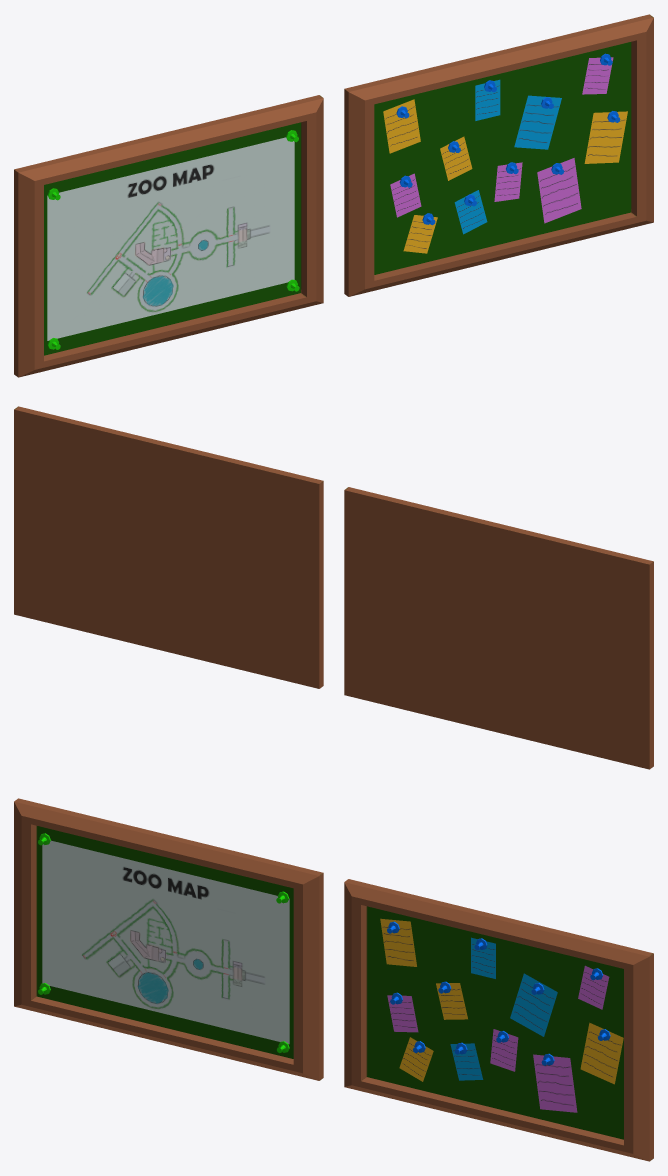
File: papan mading.fbx
The picture shows the model from 3 angles, top to bottom: view 1: azimuth 30°, elevation 25°; view 2: azimuth 150°, elevation 25°; view 3: azimuth 330°, elevation 25°; orthographic projection.
Visible parts, largest first — view 1: papan.001, Map2D, papan, Plane.010, Plane.007, Plane.009, Circle.005, Plane.004, Plane.008, Plane.006, Plane.014, Plane.011 (+3 smaller); view 2: papan, papan.001; view 3: papan.001, Map2D, papan, Plane.010, Plane.007, Plane.009, Circle.005, Plane.004, Plane.013, Plane.008, Plane.012, Plane.014 (+3 smaller).
Part boxes in pixels (bbox=[...]): papan.001: bbox=[344, 14, 653, 296]; Map2D: bbox=[47, 137, 294, 340]; papan: bbox=[14, 95, 323, 377]; Plane.010: bbox=[537, 158, 581, 223]; Plane.007: bbox=[514, 95, 561, 149]; Plane.009: bbox=[584, 111, 627, 163]; Circle.005: bbox=[396, 53, 620, 225]; Plane.004: bbox=[383, 99, 420, 153]; Plane.008: bbox=[582, 57, 613, 94]; Plane.006: bbox=[475, 79, 500, 120]; Plane.014: bbox=[403, 215, 437, 253]; Plane.011: bbox=[494, 162, 522, 201]; papan: bbox=[344, 487, 653, 769]; papan.001: bbox=[14, 406, 323, 688]; papan.001: bbox=[344, 879, 653, 1161]; Map2D: bbox=[42, 840, 289, 1044]; papan: bbox=[14, 798, 323, 1080]; Plane.010: bbox=[533, 1054, 577, 1112]; Plane.007: bbox=[510, 973, 557, 1036]; Plane.009: bbox=[580, 1022, 623, 1084]; Circle.005: bbox=[387, 921, 610, 1065]; Plane.004: bbox=[380, 918, 416, 966]; Plane.013: bbox=[387, 995, 418, 1032]; Plane.008: bbox=[578, 965, 609, 1009]; Plane.012: bbox=[450, 1043, 483, 1080]; Plane.014: bbox=[399, 1037, 433, 1081].
Size of the model in its own units: 649 by 200 by 19.44.
